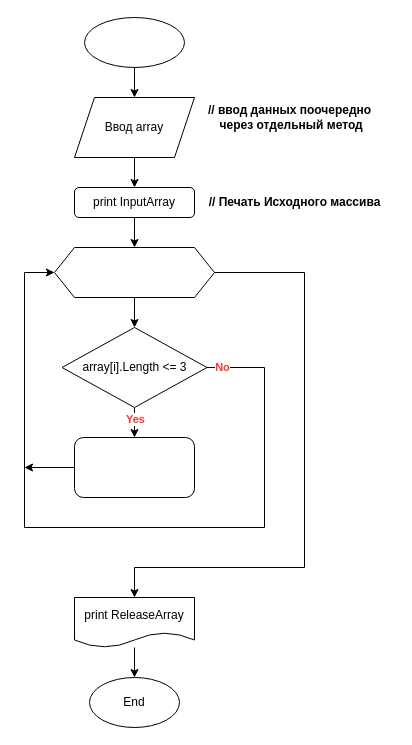
The diagram is 412 pixels wide and 745 high, and some of its shapes have lost their labels. The shapes that lost their labels are listed below. From the top down, each one's centre as x and y in pixels, then its label:
the point at 134,42: Start
the point at 134,272: i = 0; i < array.Length; i++
the point at 134,467: print array[i]
